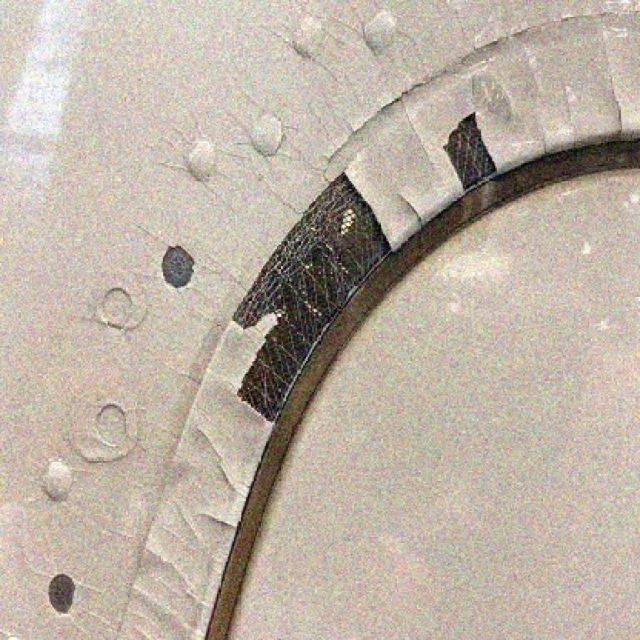crack: (399, 196, 422, 225), (197, 430, 222, 456), (201, 511, 234, 528), (217, 463, 234, 489)
